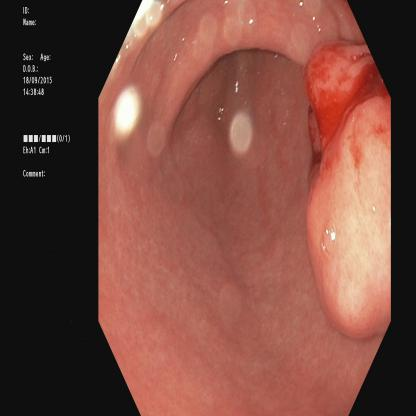Labels: (20, 3, 74, 180)
Polyps: (313, 115, 390, 335), (305, 36, 374, 124)
